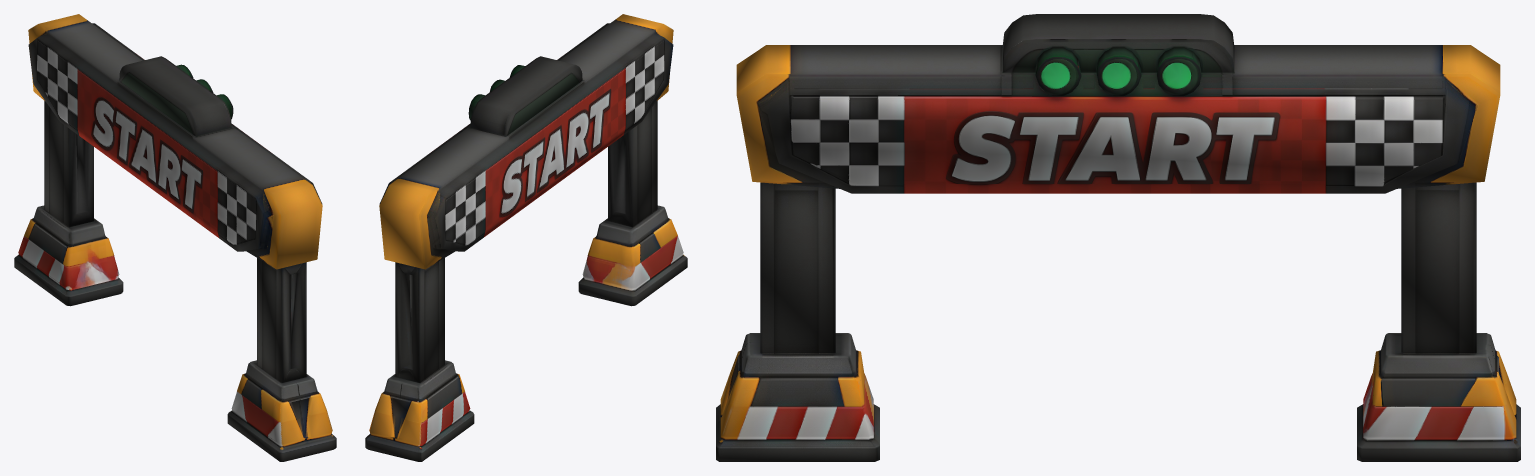
Rendered from start_gate_3d_model.fbx.
3 views of the same model, side by side, from view 1: azimuth 30°, elevation 25°; view 2: azimuth 150°, elevation 25°; view 3: azimuth 270°, elevation 25° (orthographic). The views are drawn at different scales.
Parts seen in each view (by area): view 1: tripo_node_fd9bdb46; view 2: tripo_node_fd9bdb46; view 3: tripo_node_fd9bdb46.
Boxes of the visible parts, x1,y1,x2,y2 form: tripo_node_fd9bdb46: (14,14,336,461); tripo_node_fd9bdb46: (365,14,687,461); tripo_node_fd9bdb46: (716,14,1520,461).
Size of the model in its own units: 0.1309 by 0.5684 by 0.998.
